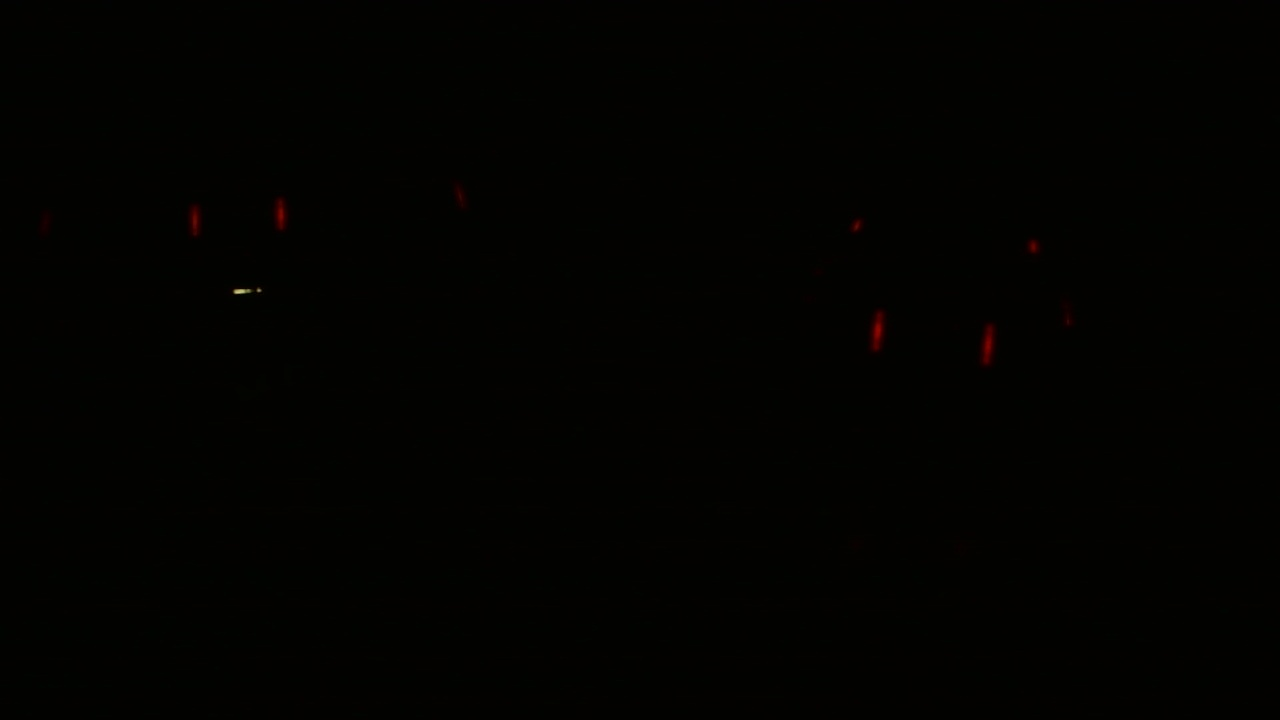pair1: (181, 186, 303, 252)
pair2: (854, 303, 1007, 375)
